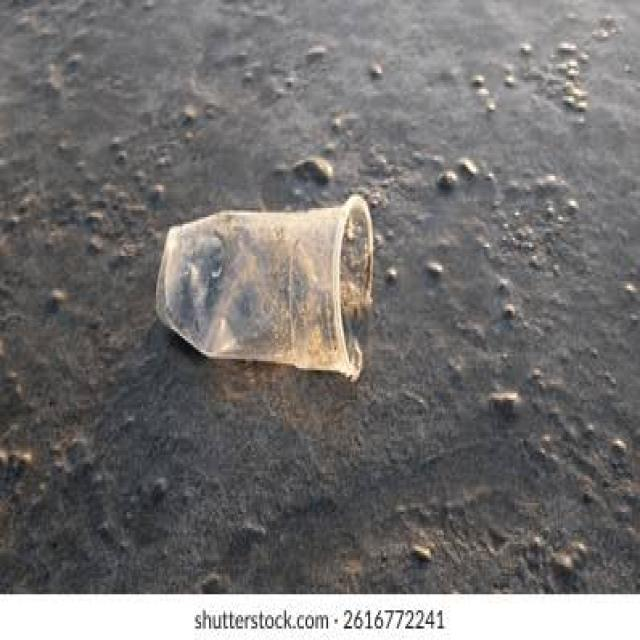plastic: (152, 190, 390, 394)
